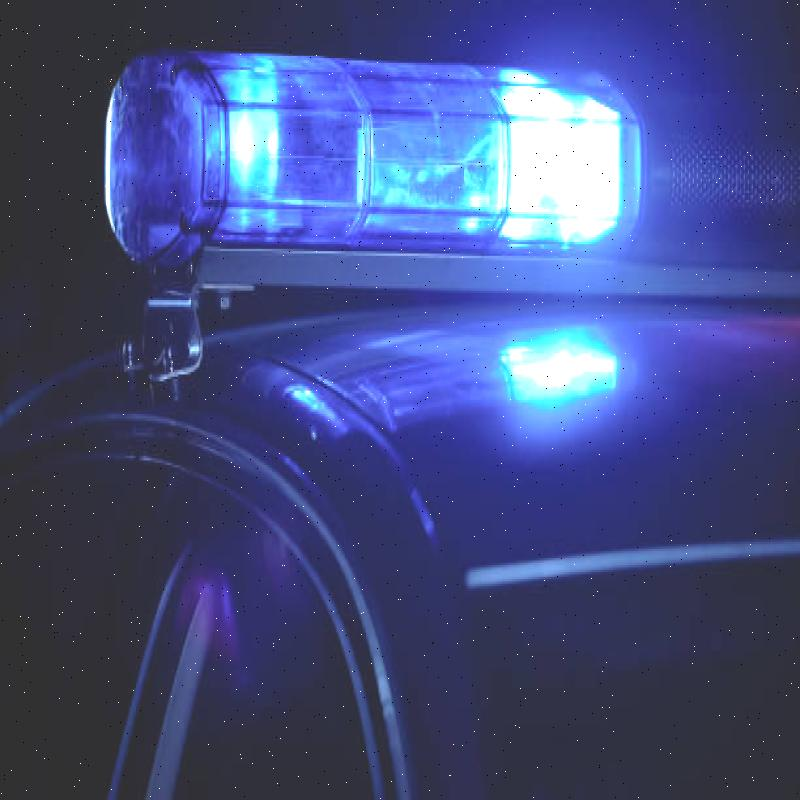AmbulanceSiren: (88, 11, 651, 348)
